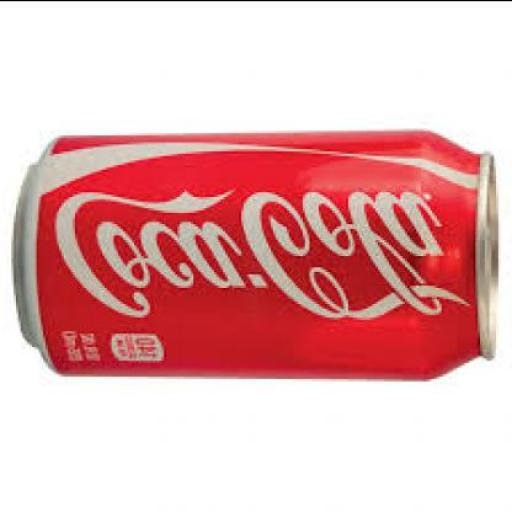metal: (16, 134, 503, 385)
